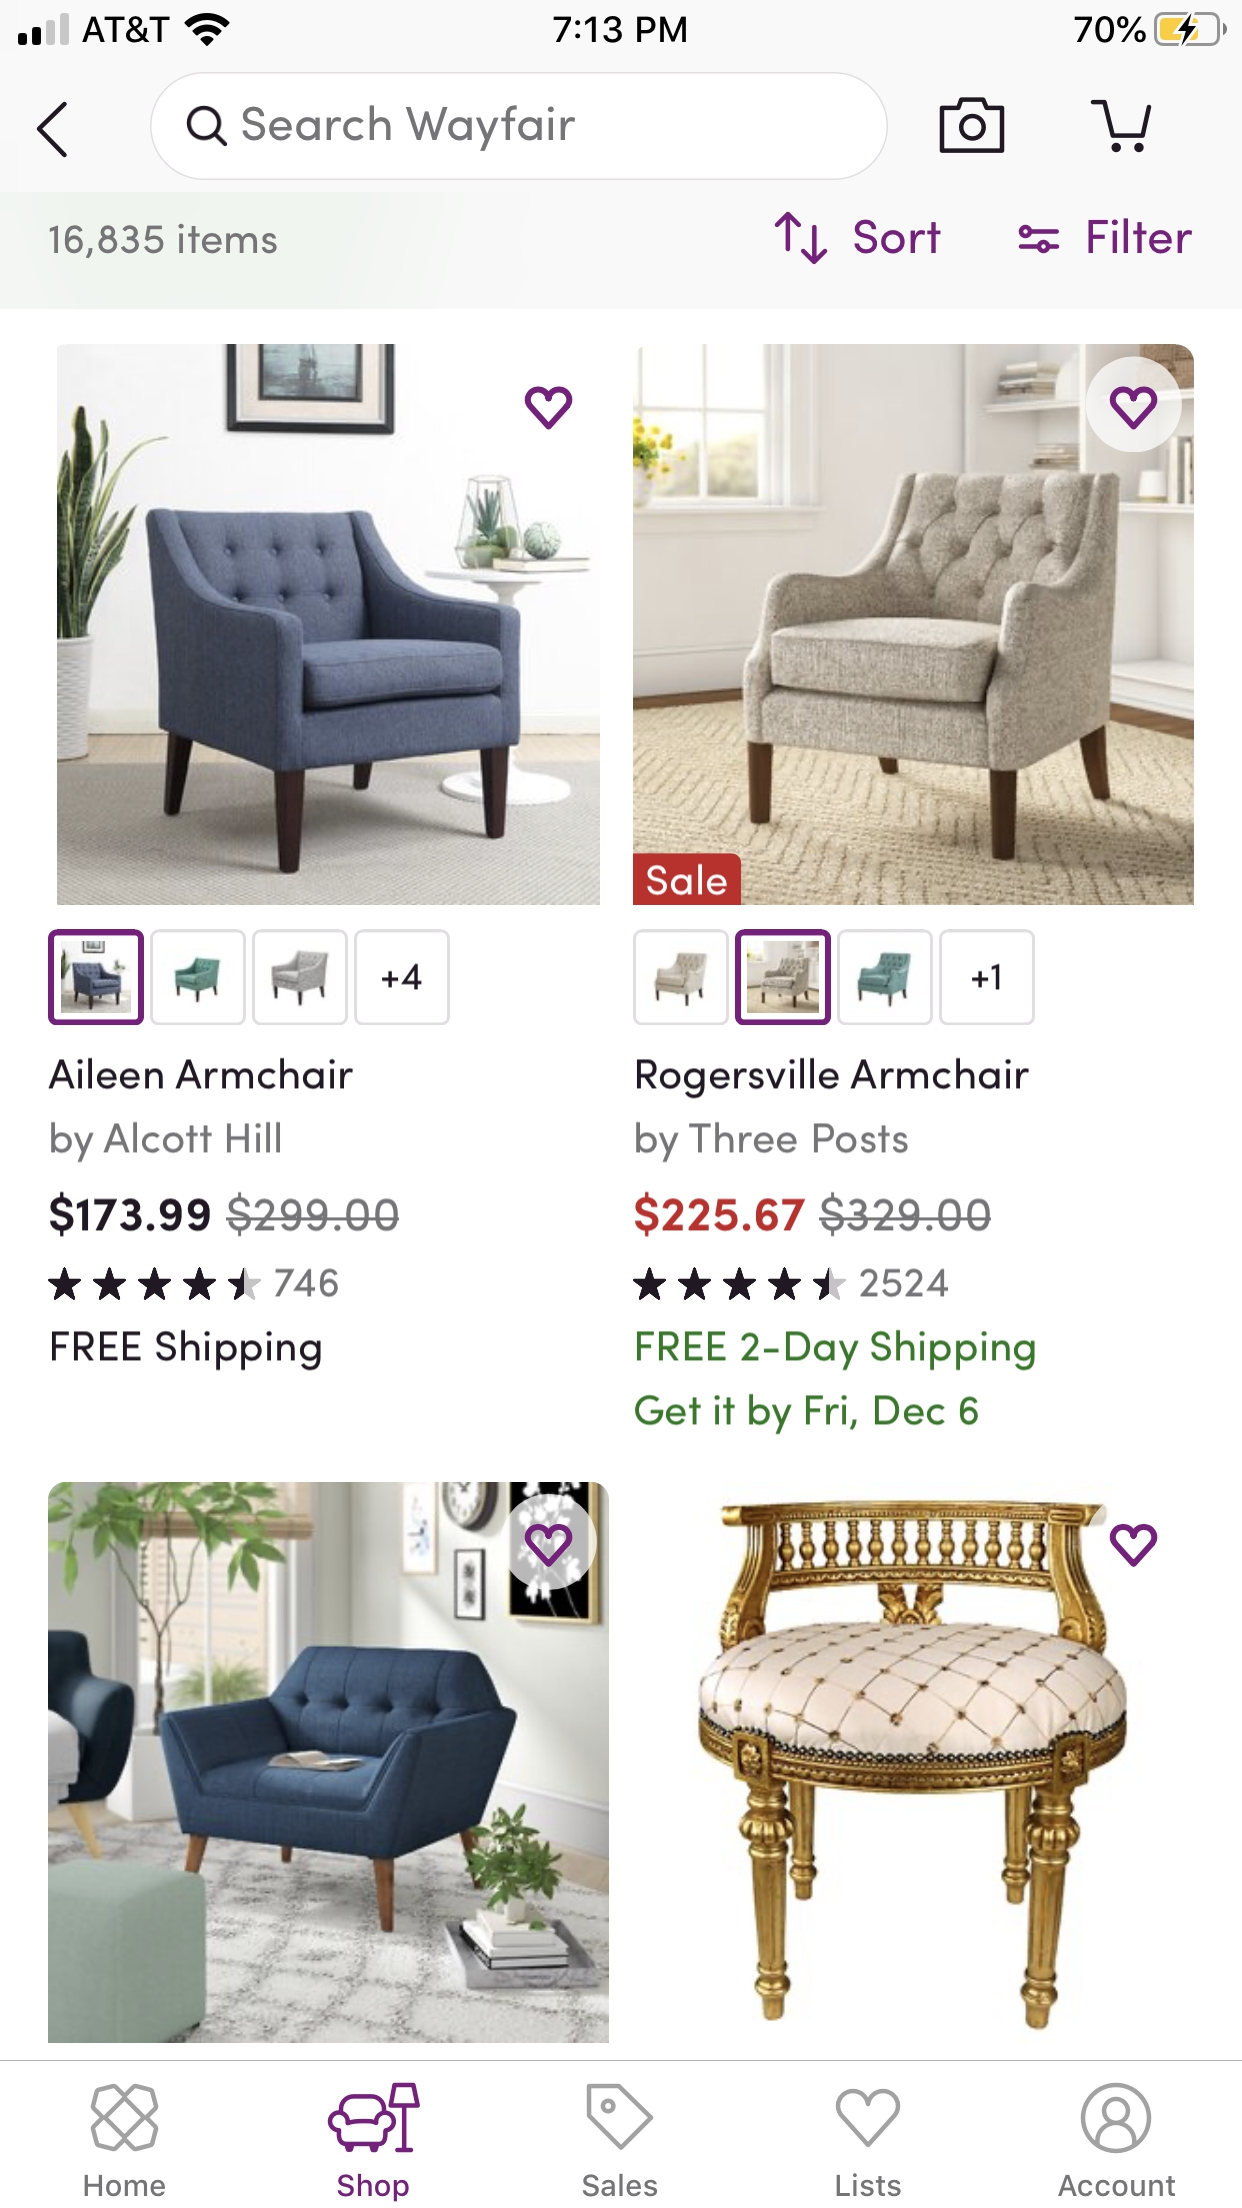EditText: (152, 73, 889, 180)
Icon: (502, 1494, 597, 1589), (1086, 358, 1181, 453), (49, 1266, 262, 1301), (632, 1266, 846, 1300), (1081, 2082, 1153, 2153), (587, 2085, 654, 2150), (939, 99, 1005, 155), (837, 2090, 901, 2147), (1090, 100, 1153, 153), (775, 212, 828, 265), (525, 387, 573, 431), (1110, 1524, 1159, 1567), (36, 102, 68, 158), (187, 108, 227, 147), (1019, 224, 1060, 253)
Image: (49, 1482, 610, 2043), (632, 344, 1193, 905), (59, 346, 601, 905), (699, 1501, 1127, 2031), (836, 930, 933, 1027), (735, 930, 833, 1027), (49, 930, 146, 1027), (939, 930, 1034, 1027), (634, 930, 729, 1027), (355, 930, 450, 1027), (253, 930, 349, 1027), (152, 930, 247, 1027), (329, 2084, 422, 2153), (93, 2084, 161, 2152)
Text: (50, 1190, 400, 1237), (637, 1330, 1034, 1371), (635, 1192, 990, 1237), (637, 1059, 1030, 1099), (243, 105, 576, 152), (635, 1394, 980, 1435), (635, 1122, 908, 1163), (53, 1330, 321, 1371), (49, 1057, 353, 1090), (52, 1121, 281, 1163), (50, 224, 278, 259), (1089, 218, 1193, 253), (855, 221, 942, 255), (1059, 2175, 1175, 2196), (861, 1269, 949, 1297), (338, 2175, 409, 2202), (276, 1269, 340, 1297), (582, 2175, 658, 2197), (85, 2175, 165, 2196), (836, 2173, 901, 2197)
UpperTaskBar: (2, 2, 1242, 49)
